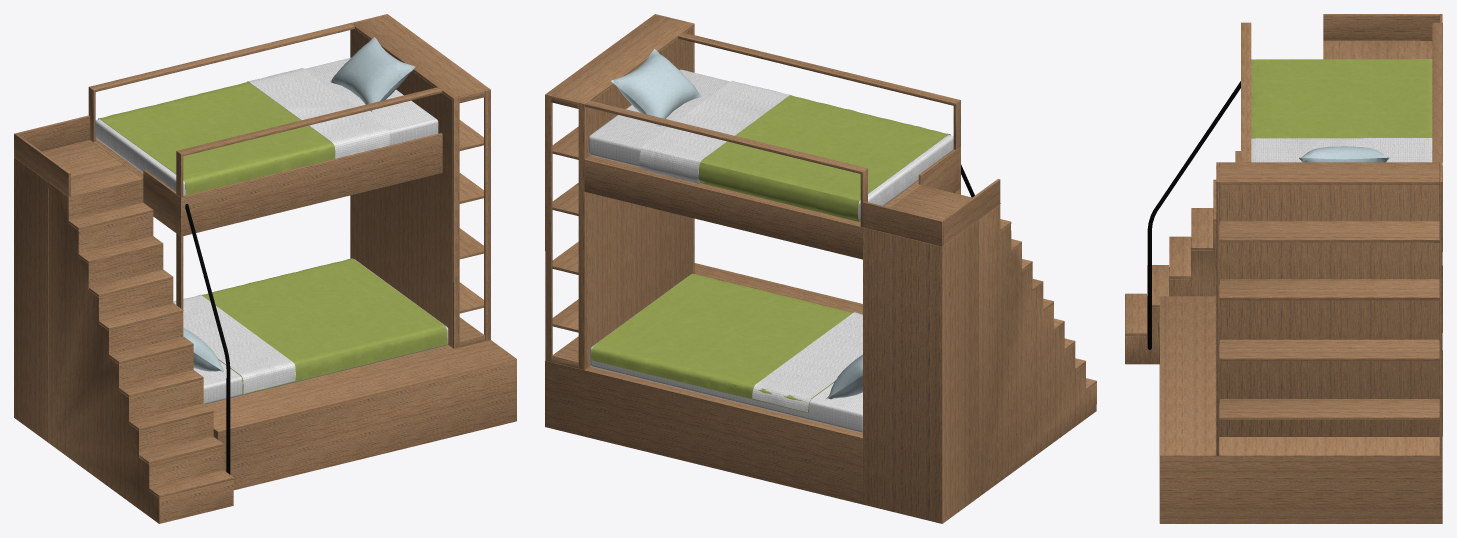
File: bunk-bed-stairs.obj
3 views of the same model, side by side, from view 1: azimuth 30°, elevation 25°; view 2: azimuth 150°, elevation 25°; view 3: azimuth 270°, elevation 25° (orthographic). The views are drawn at different scales.
Visible parts, largest first — view 1: bunk-bed-stairs.004, bunk-bed-stairs.018, bunk-bed-stairs.019, bunk-bed-stairs.009, bunk-bed-stairs.001, bunk-bed-stairs, bunk-bed-stairs.002, bunk-bed-stairs.020, bunk-bed-stairs.010, bunk-bed-stairs.003, bunk-bed-stairs.011, bunk-bed-stairs.023 (+6 smaller); view 2: bunk-bed-stairs.004, bunk-bed-stairs.018, bunk-bed-stairs.019, bunk-bed-stairs.009, bunk-bed-stairs.001, bunk-bed-stairs.002, bunk-bed-stairs, bunk-bed-stairs.003, bunk-bed-stairs.020, bunk-bed-stairs.010, bunk-bed-stairs.011, bunk-bed-stairs.017 (+1 smaller); view 3: bunk-bed-stairs.004, bunk-bed-stairs.019, bunk-bed-stairs.005, bunk-bed-stairs.006, bunk-bed-stairs.007, bunk-bed-stairs.008, bunk-bed-stairs.001, bunk-bed-stairs.011, bunk-bed-stairs.010, bunk-bed-stairs.023, bunk-bed-stairs.020.
Boxes of the visible parts, left/top/right/bottom form: bunk-bed-stairs.004: left=14, top=14, right=516, bottom=523; bunk-bed-stairs.018: left=201, top=258, right=447, bottom=394; bunk-bed-stairs.019: left=98, top=82, right=335, bottom=194; bunk-bed-stairs.009: left=90, top=133, right=442, bottom=309; bunk-bed-stairs.001: left=247, top=68, right=390, bottom=158; bunk-bed-stairs: left=173, top=294, right=295, bottom=393; bunk-bed-stairs.002: left=95, top=57, right=438, bottom=195; bunk-bed-stairs.020: left=330, top=37, right=415, bottom=111; bunk-bed-stairs.010: left=176, top=87, right=442, bottom=197; bunk-bed-stairs.003: left=193, top=259, right=448, bottom=404; bunk-bed-stairs.011: left=15, top=134, right=70, bottom=196; bunk-bed-stairs.023: left=185, top=204, right=230, bottom=474; bunk-bed-stairs.004: left=545, top=14, right=1096, bottom=523; bunk-bed-stairs.018: left=591, top=273, right=852, bottom=412; bunk-bed-stairs.019: left=698, top=95, right=950, bottom=221; bunk-bed-stairs.009: left=584, top=146, right=960, bottom=259; bunk-bed-stairs.001: left=639, top=80, right=791, bottom=183; bunk-bed-stairs.002: left=588, top=69, right=953, bottom=220; bunk-bed-stairs: left=752, top=312, right=862, bottom=412; bunk-bed-stairs.003: left=590, top=275, right=862, bottom=432; bunk-bed-stairs.020: left=611, top=49, right=701, bottom=128; bunk-bed-stairs.010: left=678, top=32, right=960, bottom=149; bunk-bed-stairs.011: left=942, top=179, right=1000, bottom=245; bunk-bed-stairs.017: left=586, top=155, right=918, bottom=225; bunk-bed-stairs.004: left=1125, top=14, right=1442, bottom=523; bunk-bed-stairs.019: left=1251, top=59, right=1432, bottom=138; bunk-bed-stairs.005: left=1219, top=221, right=1439, bottom=242; bunk-bed-stairs.006: left=1219, top=279, right=1439, bottom=300; bunk-bed-stairs.007: left=1219, top=339, right=1439, bottom=360; bunk-bed-stairs.008: left=1219, top=399, right=1439, bottom=419; bunk-bed-stairs.001: left=1251, top=138, right=1432, bottom=162; bunk-bed-stairs.011: left=1323, top=14, right=1439, bottom=40; bunk-bed-stairs.010: left=1241, top=22, right=1251, bottom=162; bunk-bed-stairs.023: left=1147, top=81, right=1240, bottom=349; bunk-bed-stairs.020: left=1299, top=146, right=1389, bottom=162.
Bounding box in the file's own units: 250 × 204 × 168.
6 materials, 5 textured.
